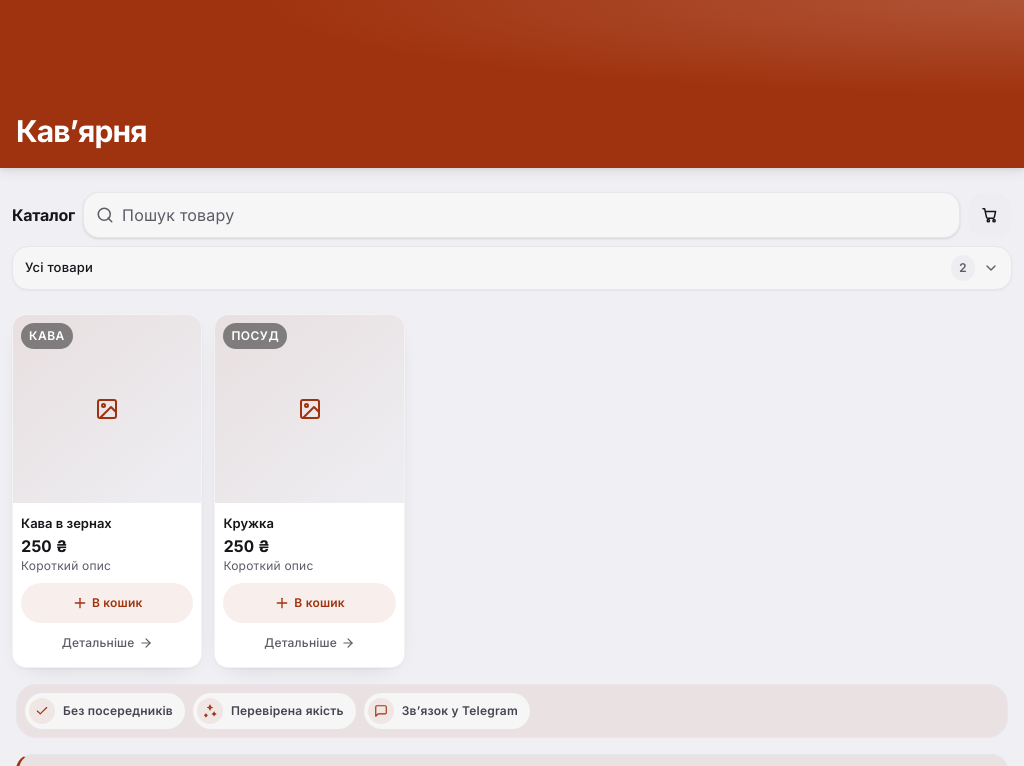
Test: ShopStore — кошик › кошик відкривається поверхнею й рахує одиниці
Click the button with aria-label "В кошик: Кава в зернах".
click(107, 603)  # box x1=21 y1=583 x2=193 y2=623
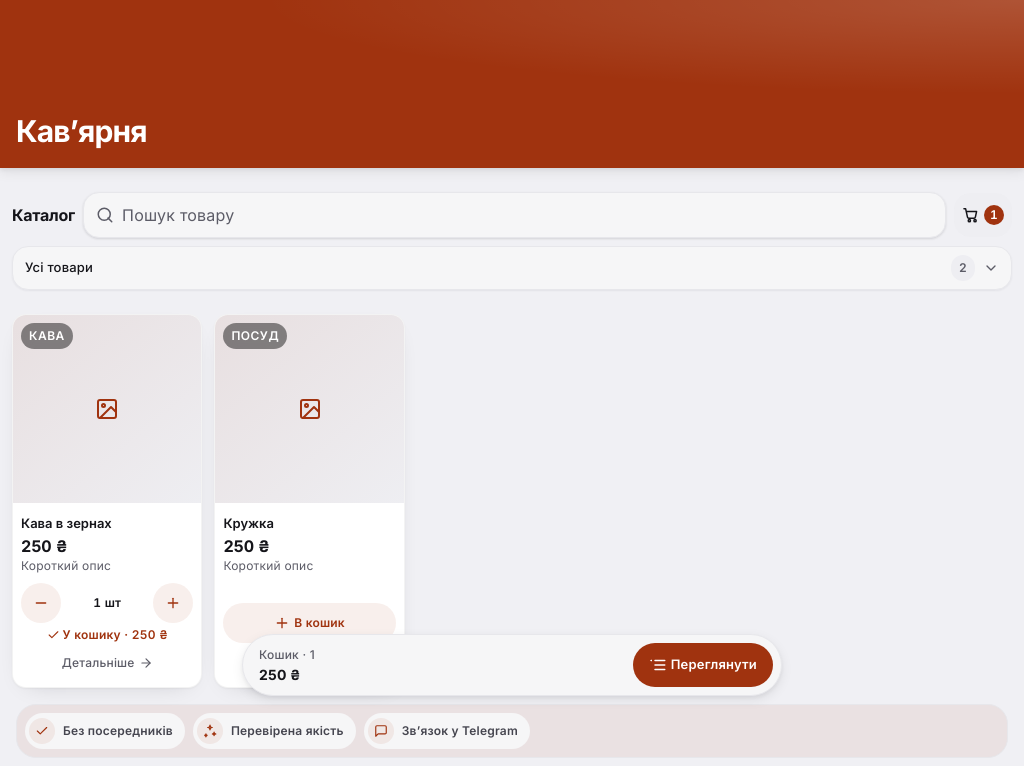
Click the button named "Кошик · 1".
click(983, 215)  # box x1=954 y1=193 x2=1012 y2=237
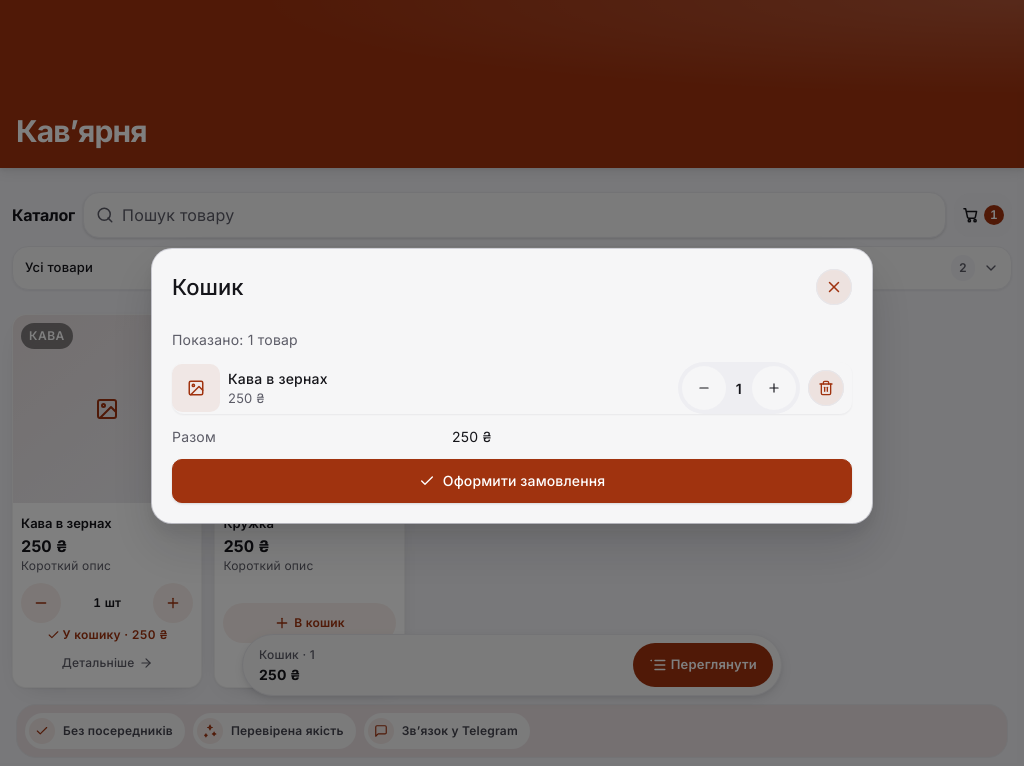
Click the button named "Більше".
click(774, 388)  # box x1=752 y1=366 x2=796 y2=410
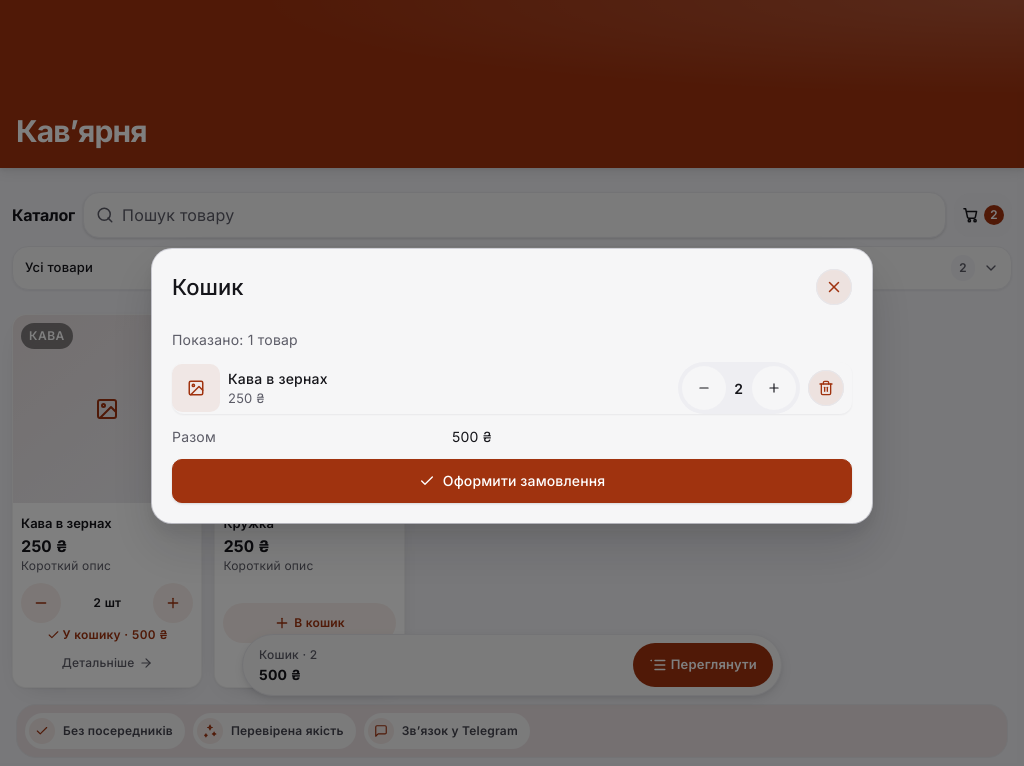
expect the button named "Кошик · 2" is shown: met, box x1=954 y1=193 x2=1012 y2=237
